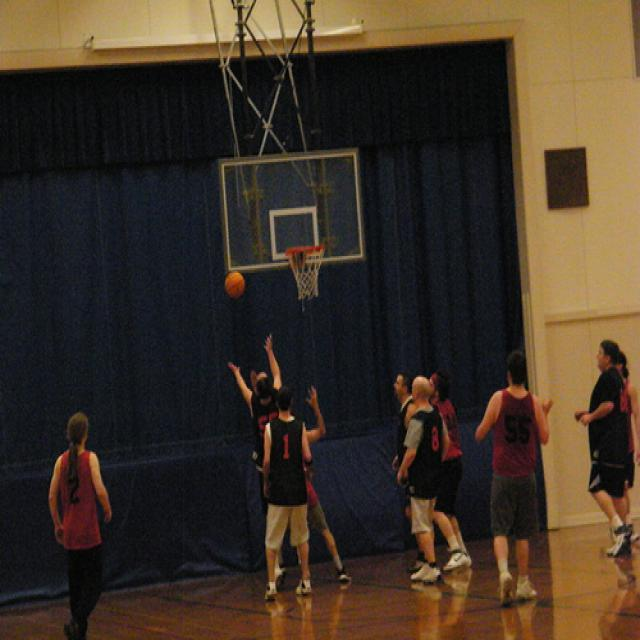basketball: (222, 270, 245, 300)
rim: (284, 243, 328, 260)
